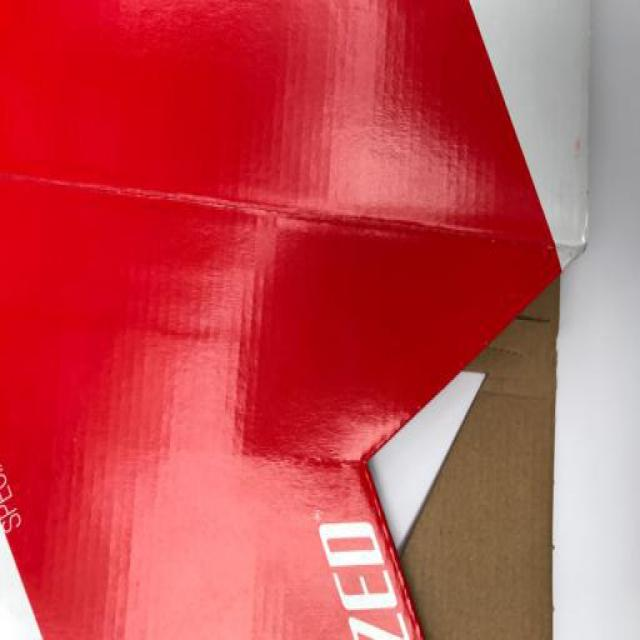class_name: (27, 0, 624, 640)
